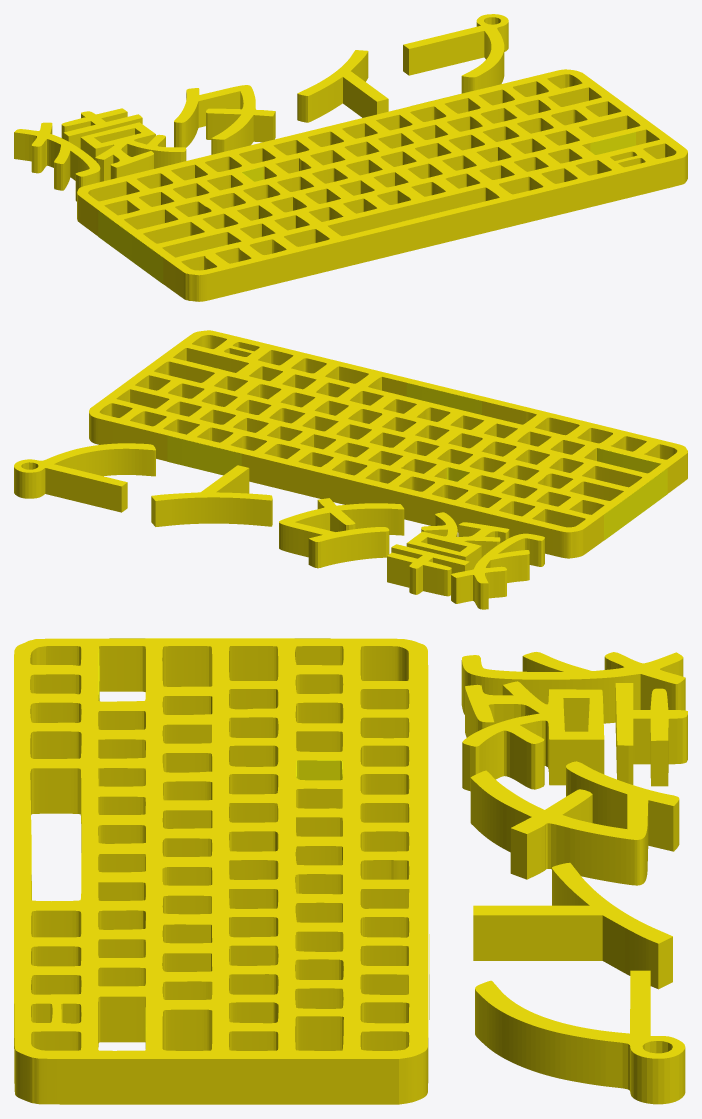
File: sarutype_3d (1).fbx
3 views of the same model, one above another, from view 1: azimuth 30°, elevation 25°; view 2: azimuth 150°, elevation 25°; view 3: azimuth 270°, elevation 25° (orthographic). The views are drawn at different scales.
Visible parts, largest first — view 1: imagetostl_mesh0, imagetostl_mesh8, imagetostl_mesh9, imagetostl_mesh7, imagetostl_mesh11, imagetostl_mesh10, imagetostl_mesh1, imagetostl_mesh12, imagetostl_mesh5; view 2: imagetostl_mesh0, imagetostl_mesh9, imagetostl_mesh8, imagetostl_mesh11, imagetostl_mesh10, imagetostl_mesh7, imagetostl_mesh12, imagetostl_mesh3, imagetostl_mesh1, imagetostl_mesh2, imagetostl_mesh6; view 3: imagetostl_mesh0, imagetostl_mesh8, imagetostl_mesh9, imagetostl_mesh11, imagetostl_mesh7, imagetostl_mesh10, imagetostl_mesh12, imagetostl_mesh4.
Part boxes in pixels (bbox=[...]): imagetostl_mesh0: bbox=[77, 69, 687, 301]; imagetostl_mesh8: bbox=[174, 85, 275, 154]; imagetostl_mesh9: bbox=[403, 14, 508, 93]; imagetostl_mesh7: bbox=[80, 122, 186, 181]; imagetostl_mesh11: bbox=[297, 50, 388, 122]; imagetostl_mesh10: bbox=[14, 122, 100, 201]; imagetostl_mesh1: bbox=[98, 210, 163, 283]; imagetostl_mesh12: bbox=[61, 108, 142, 148]; imagetostl_mesh5: bbox=[590, 132, 635, 154]; imagetostl_mesh0: bbox=[89, 330, 687, 558]; imagetostl_mesh9: bbox=[14, 443, 155, 512]; imagetostl_mesh8: bbox=[279, 498, 404, 568]; imagetostl_mesh11: bbox=[151, 465, 272, 526]; imagetostl_mesh10: bbox=[451, 533, 544, 609]; imagetostl_mesh7: bbox=[406, 512, 509, 569]; imagetostl_mesh12: bbox=[387, 544, 469, 596]; imagetostl_mesh3: bbox=[167, 435, 241, 475]; imagetostl_mesh1: bbox=[604, 468, 667, 540]; imagetostl_mesh2: bbox=[406, 383, 481, 414]; imagetostl_mesh6: bbox=[597, 448, 660, 473]; imagetostl_mesh0: bbox=[14, 638, 428, 1104]; imagetostl_mesh8: bbox=[470, 761, 679, 885]; imagetostl_mesh9: bbox=[475, 970, 685, 1104]; imagetostl_mesh11: bbox=[473, 862, 672, 989]; imagetostl_mesh7: bbox=[462, 681, 604, 791]; imagetostl_mesh10: bbox=[461, 652, 685, 723]; imagetostl_mesh12: bbox=[615, 683, 687, 786]; imagetostl_mesh4: bbox=[296, 760, 342, 780].
Size of the model in its own units: 39584 by 2000 by 26805.
